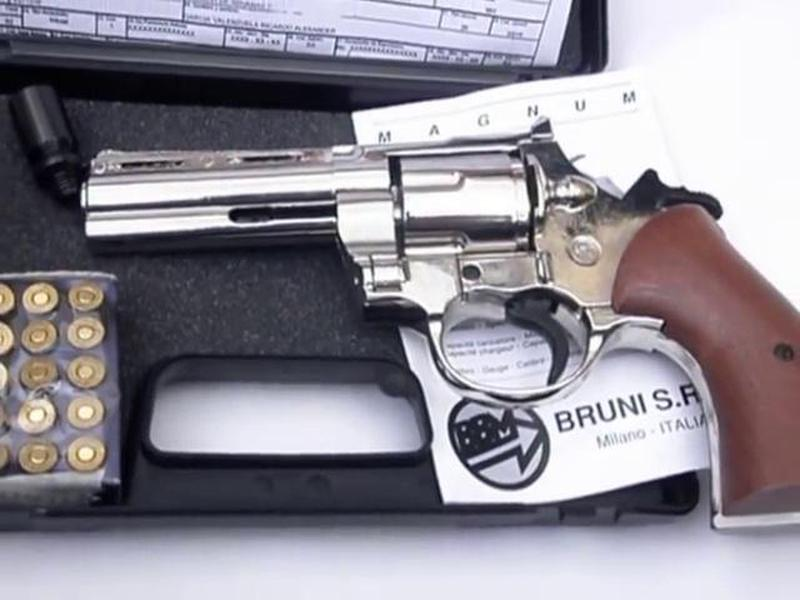Revolver: (67, 110, 796, 428)
